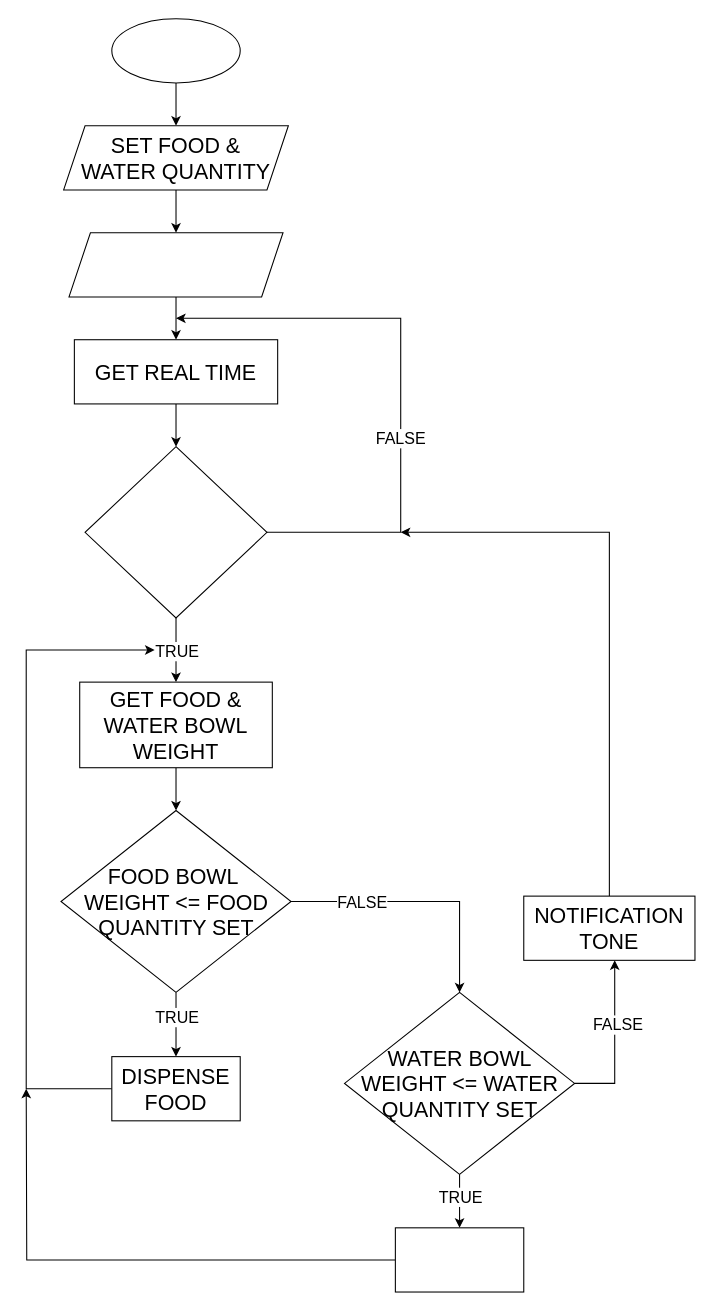
This 714x1311 diagram has some shape labels left out. Each missing label, with the centre of its shape:
DISPENSE WATER: (x=459, y=1259)
SET TIME == REAL TIME?: (x=175, y=532)
SET TIME FOR FOOD & WATER: (x=175, y=264)
START: (x=175, y=50)
